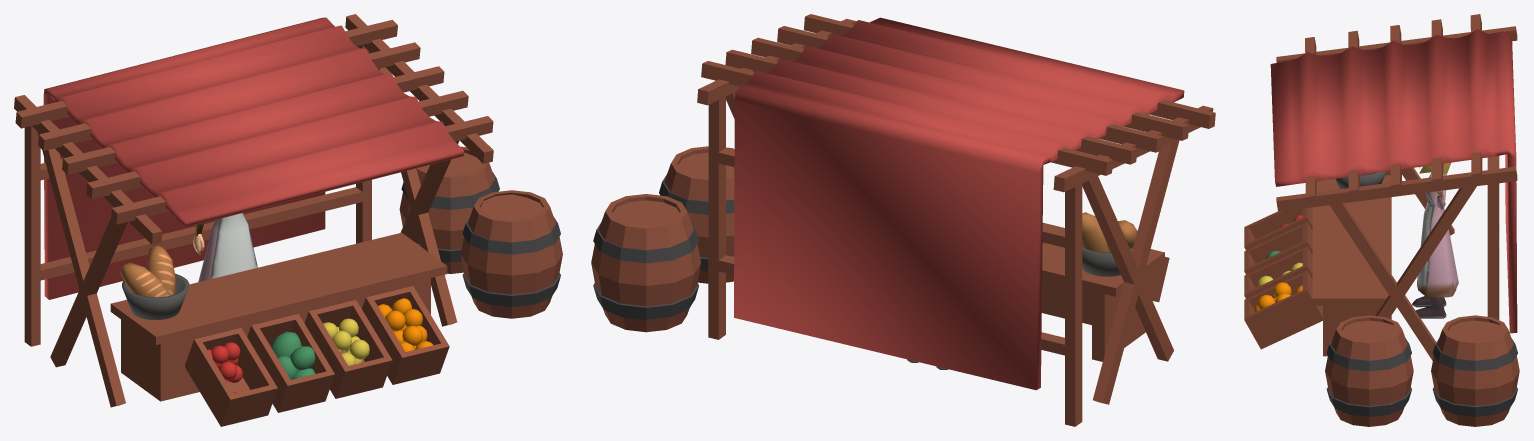
Rendered from market_stand.fbx.
3 renders of one model, left to right at view 1: azimuth 30°, elevation 25°; view 2: azimuth 150°, elevation 25°; view 3: azimuth 270°, elevation 25°, orthographic. The views are drawn at different scales.
Visible parts, largest first — view 1: tarp1, wood, main_table, barrel, box1, box3, box2, box4, barrel.001, dress, bread, bowl; view 2: tarp1, wood, barrel.001, main_table, barrel, bread, bowl, box1; view 3: tarp1, wood, main_table, barrel.001, barrel, box4, dress, box2, box3, box1, boot1, bowl.
Part boxes in pixels (<box>): tarp1: <box>43,17,464,299</box>; wood: <box>14,14,493,407</box>; main_table: <box>110,232,447,401</box>; barrel: <box>460,190,562,318</box>; box1: <box>185,328,277,426</box>; box3: <box>304,300,392,398</box>; box2: <box>247,314,334,412</box>; box4: <box>362,286,449,384</box>; barrel.001: <box>399,146,499,273</box>; dress: <box>198,213,257,281</box>; bread: <box>120,245,175,297</box>; bowl: <box>122,273,189,319</box>; tarp1: <box>734,17,1184,390</box>; wood: <box>697,14,1215,426</box>; barrel.001: <box>591,194,701,332</box>; main_table: <box>1041,222,1164,361</box>; barrel: <box>659,146,734,283</box>; bread: <box>1082,212,1137,252</box>; bowl: <box>1082,230,1137,276</box>; box1: <box>1147,257,1169,302</box>; tarp1: <box>1270,29,1517,333</box>; wood: <box>1276,14,1517,360</box>; main_table: <box>1312,175,1391,356</box>; barrel.001: <box>1431,315,1519,426</box>; barrel: <box>1325,315,1413,426</box>; box4: <box>1244,270,1322,349</box>; dress: <box>1417,172,1458,297</box>; box2: <box>1244,222,1312,274</box>; box3: <box>1244,246,1312,298</box>; box1: <box>1244,207,1312,250</box>; boot1: <box>1415,297,1446,318</box>; bowl: <box>1335,171,1386,188</box>.
Size of the model in its own units: 1391 by 716 by 804.
